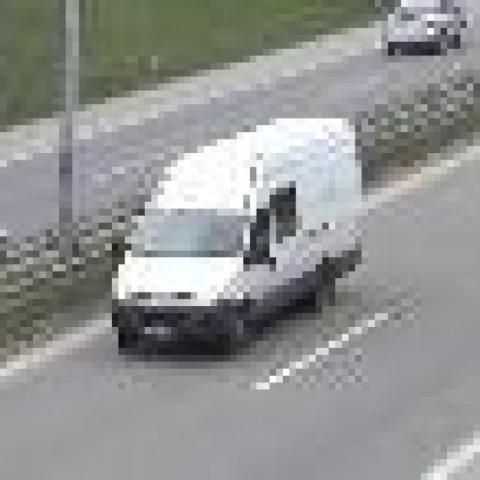car: (382, 0, 467, 56)
van: (112, 118, 356, 356)
